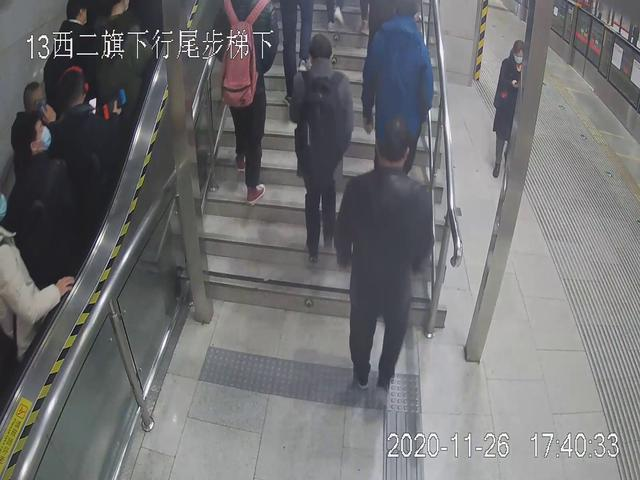person: (336, 119, 434, 397), (276, 33, 366, 264), (201, 1, 279, 213), (359, 1, 443, 173), (483, 40, 528, 178)
